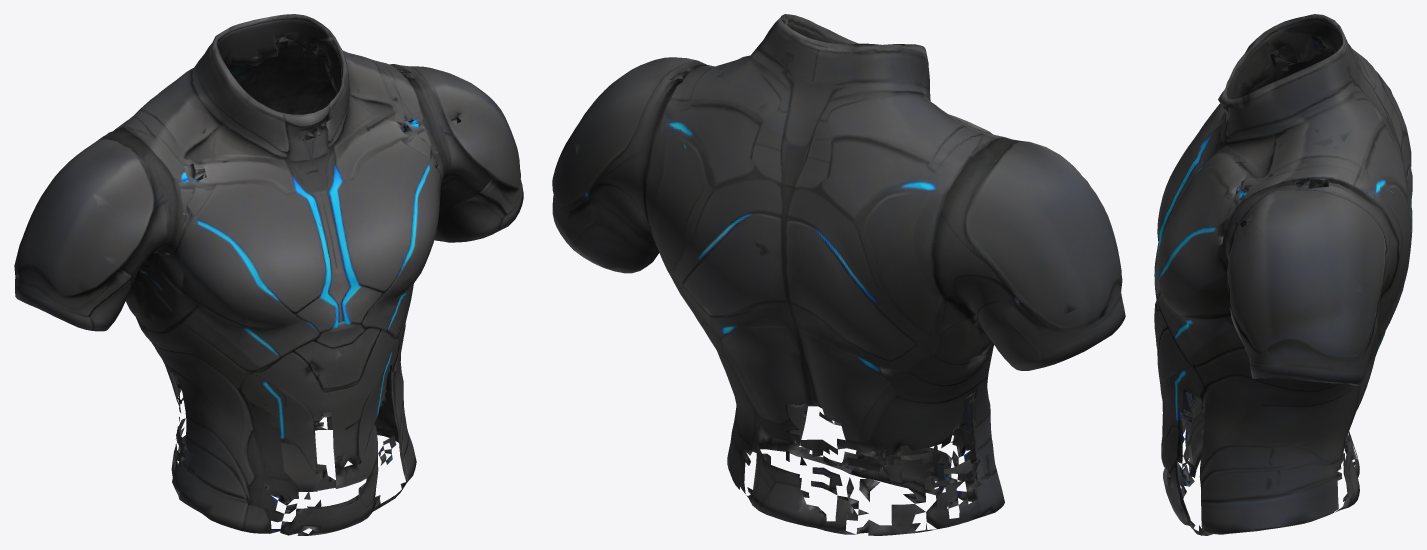
Rendered from vr body1.glb.
3 views of the same model, side by side, from view 1: azimuth 30°, elevation 25°; view 2: azimuth 150°, elevation 25°; view 3: azimuth 270°, elevation 25° (orthographic). The views are drawn at different scales.
Size of the model in its own units: 2 by 1.76 by 0.8733.
Materials: 1 (1 with a texture image).
